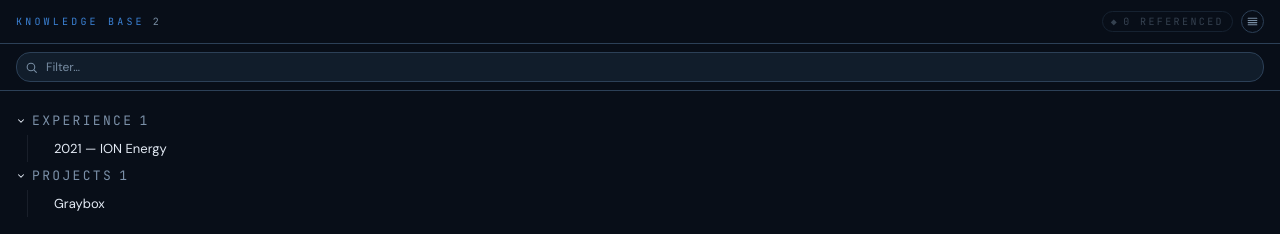
it: KbPanel header › shows a clear button only when the filter is non-empty and clears it on click
Type "ion" into the field with placeholder "Filter…" at (650, 67), box [46, 53, 1255, 81]
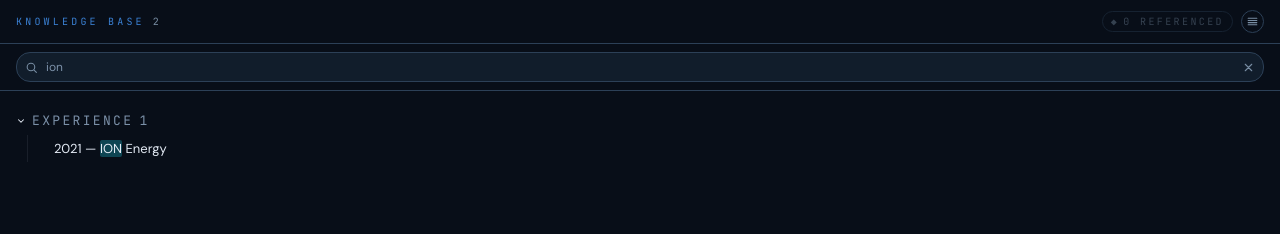
Click the button named "Clear filter" at (1248, 67), box [1242, 60, 1255, 74]
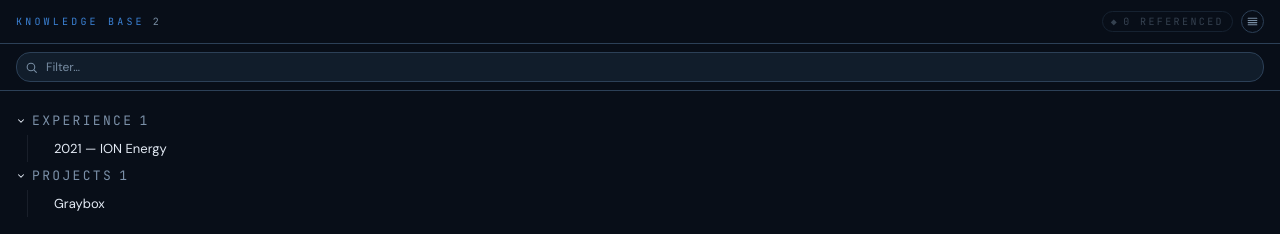
Expected: the field with placeholder "Filter…" is empty, [46, 53, 1255, 81]
